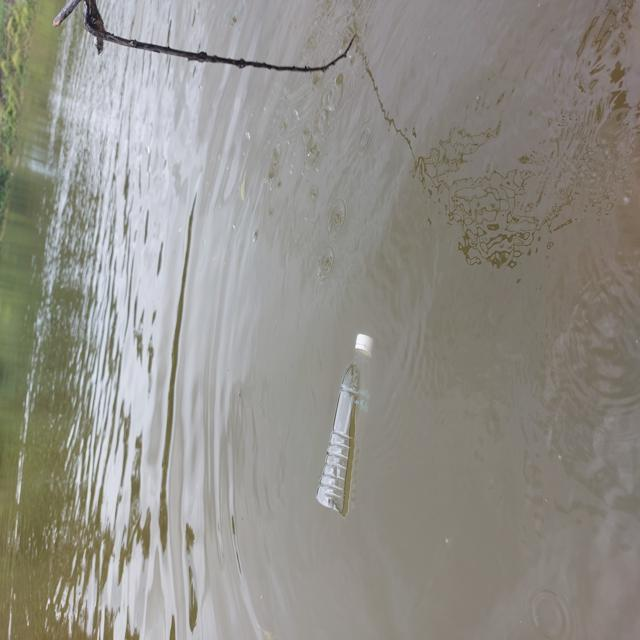waterbottle: (313, 322, 384, 514)
